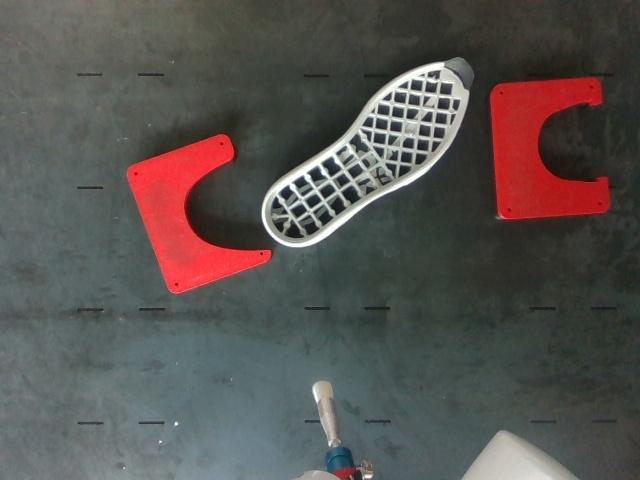shoes: (264, 59, 472, 244)
